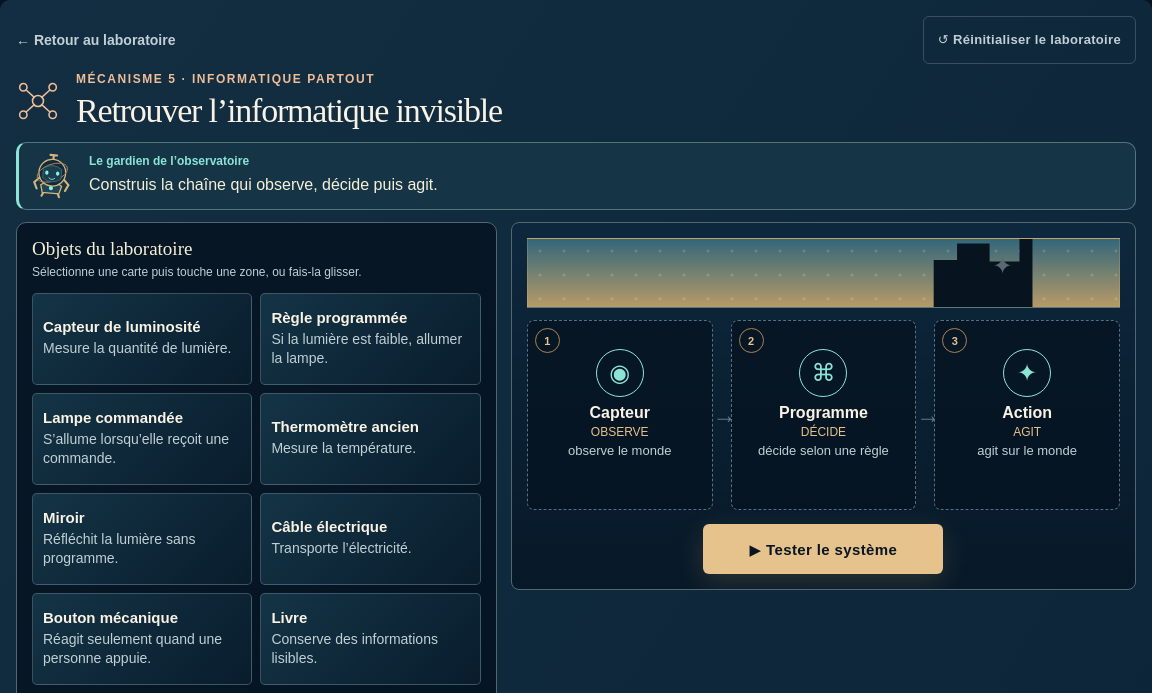
Scenario: mission Informatique partout › remplace et retire une carte avant validation
Click the button "Thermomètre ancien Mesure la température.".
click(371, 439)  # box [260, 393, 481, 485]
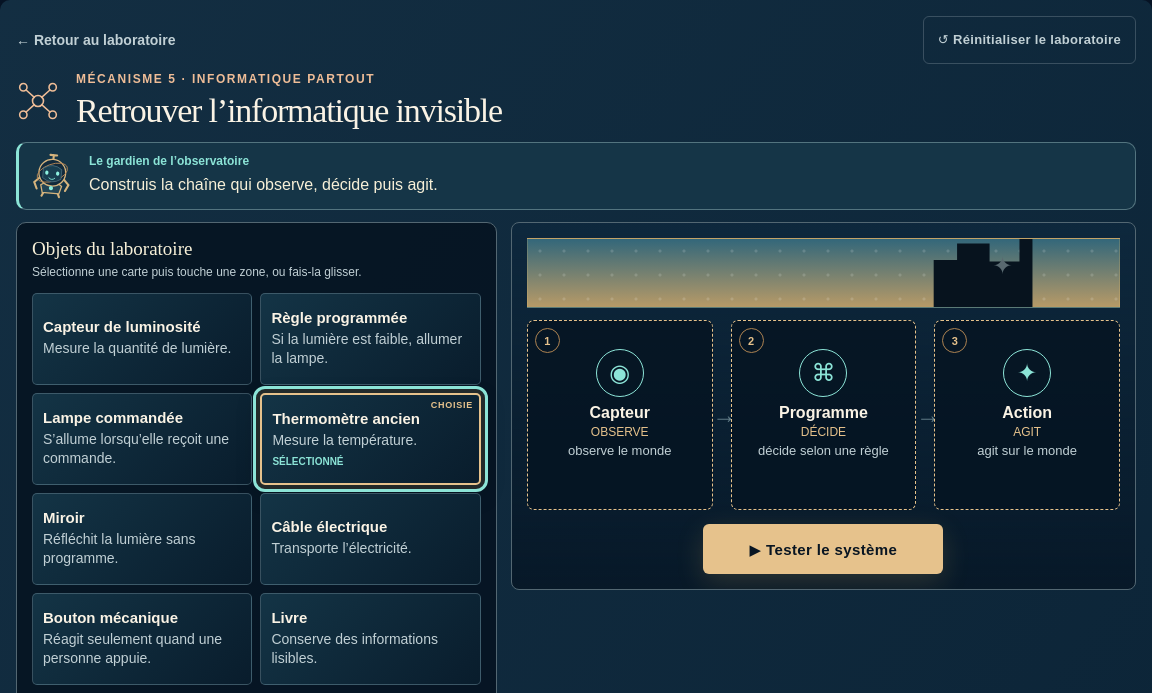
Click the button with aria-label "Capteur, observe".
click(620, 416)  # box [527, 320, 713, 510]
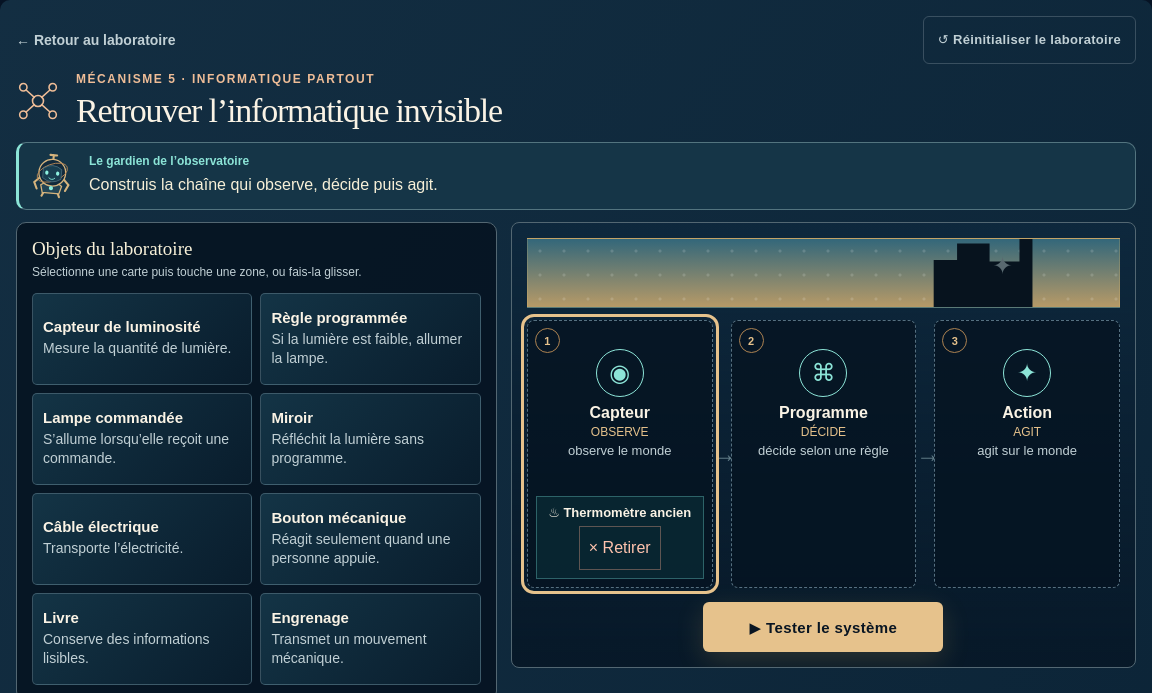
Click the button "Capteur de luminosité Mesure la quantité de lumière.".
click(142, 339)  # box [32, 293, 252, 385]
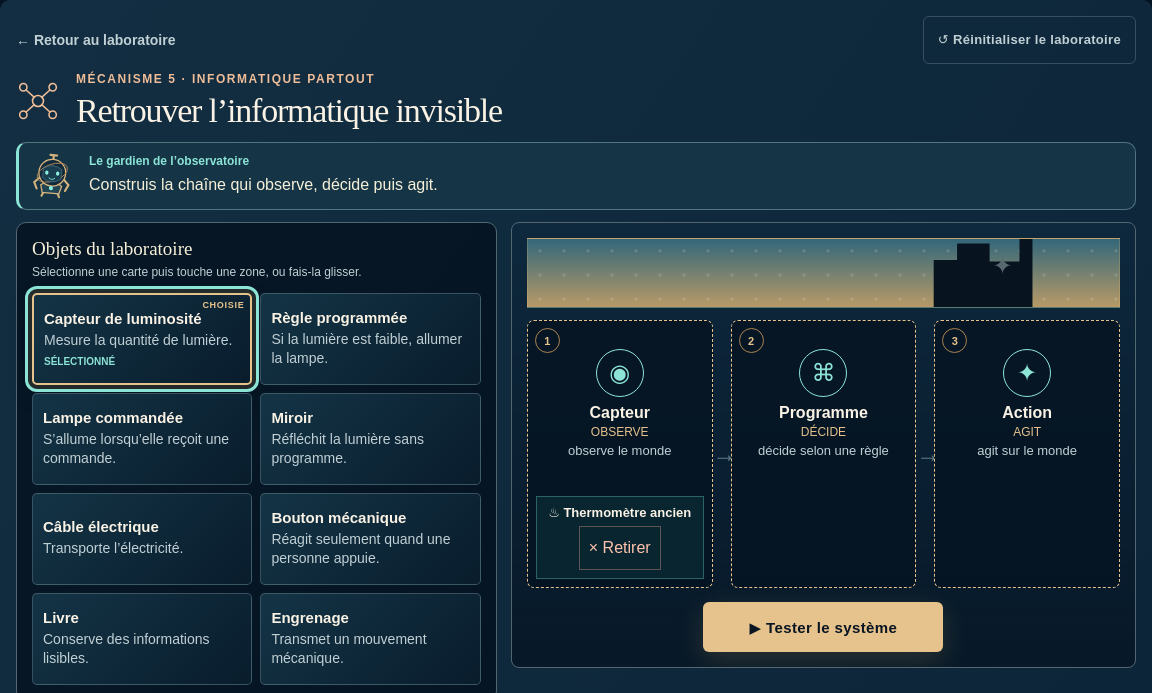
Click the button with aria-label "Capteur, observe le monde, contient Thermomètre ancien".
click(620, 454)  # box [527, 320, 713, 588]
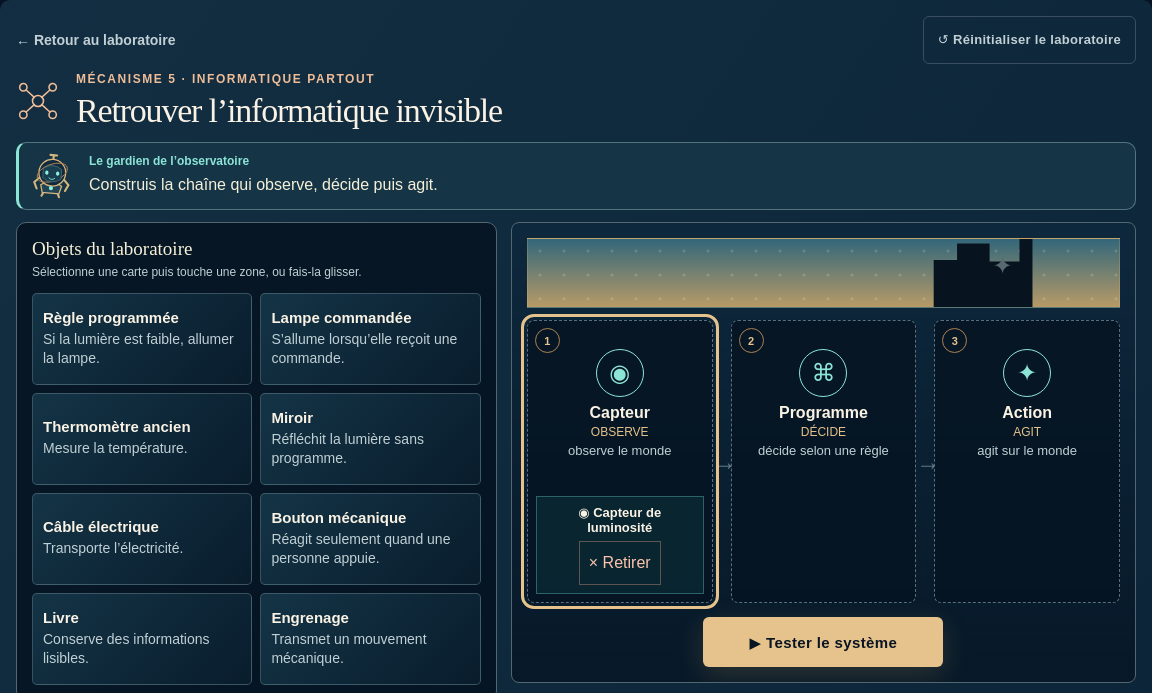
Now the button with aria-label "Retirer Capteur de luminosité" is shown
Click the button with aria-label "Retirer Capteur de luminosité".
click(620, 564)  # box [579, 542, 661, 586]
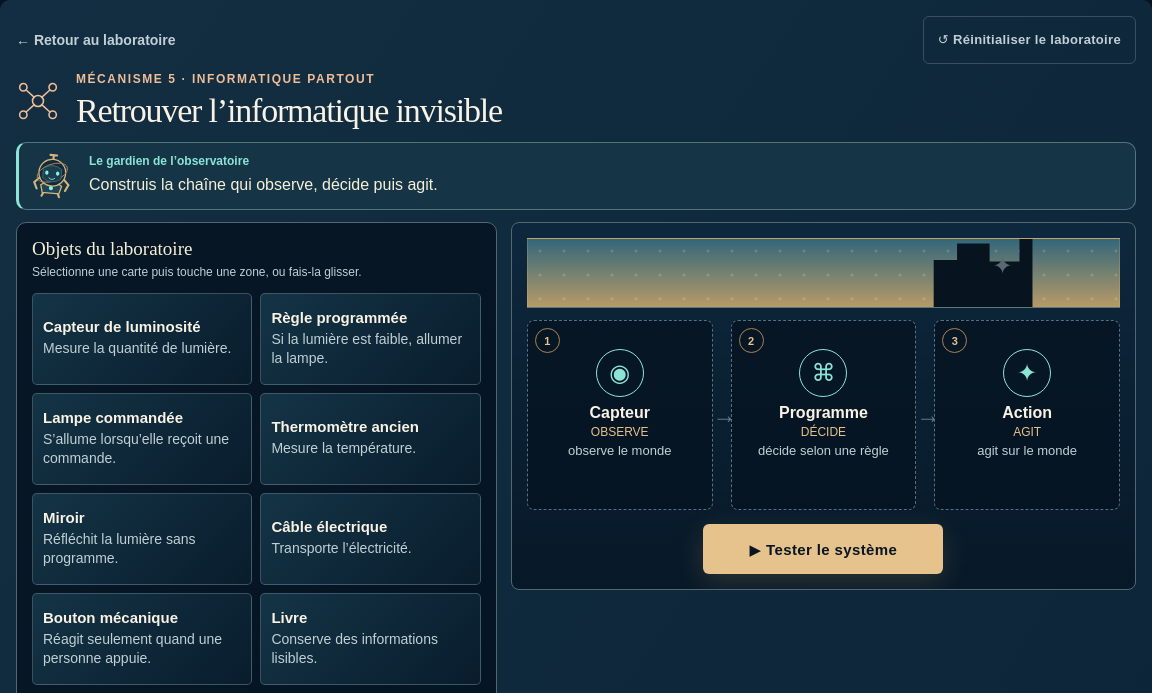
Now the button "Capteur de luminosité Mesure la quantité de lumière." is shown, box [32, 293, 252, 385]
